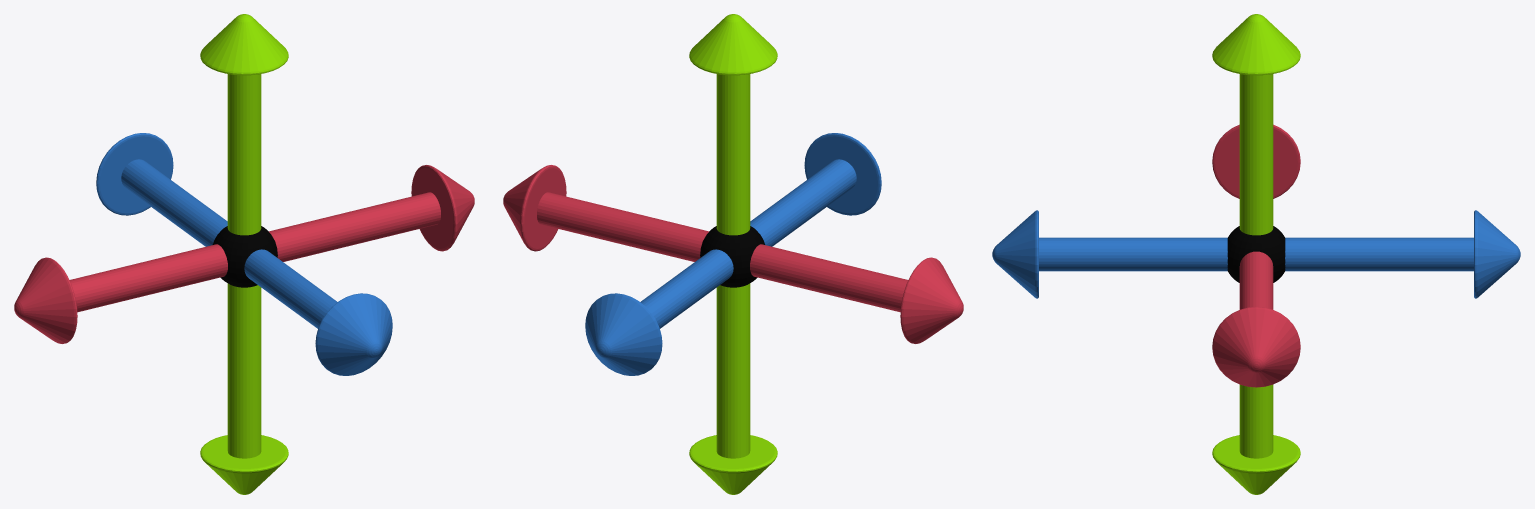
File: transform-arrows.fbx
3 views of the same model, side by side, from view 1: azimuth 30°, elevation 25°; view 2: azimuth 150°, elevation 25°; view 3: azimuth 270°, elevation 25° (orthographic).
Visible parts, largest first — view 1: Cylinder.001, Cylinder.003, Cylinder.002, Sphere; view 2: Cylinder.001, Cylinder.003, Cylinder.002, Sphere; view 3: Cylinder.002, Cylinder.001, Cylinder.003, Sphere.
Boxes of the visible parts, x1,y1,x2,y2 form: Cylinder.001: (200,14,288,494); Cylinder.003: (14,165,474,343); Cylinder.002: (96,133,392,375); Sphere: (212,226,277,287); Cylinder.001: (689,14,777,494); Cylinder.003: (503,165,963,343); Cylinder.002: (585,133,881,375); Sphere: (700,226,765,287); Cylinder.002: (992,210,1520,298); Cylinder.001: (1212,14,1300,494); Cylinder.003: (1212,124,1300,387); Sphere: (1227,226,1285,282).
Bounding box in the file's own units: 1580 × 1580 × 1580.
